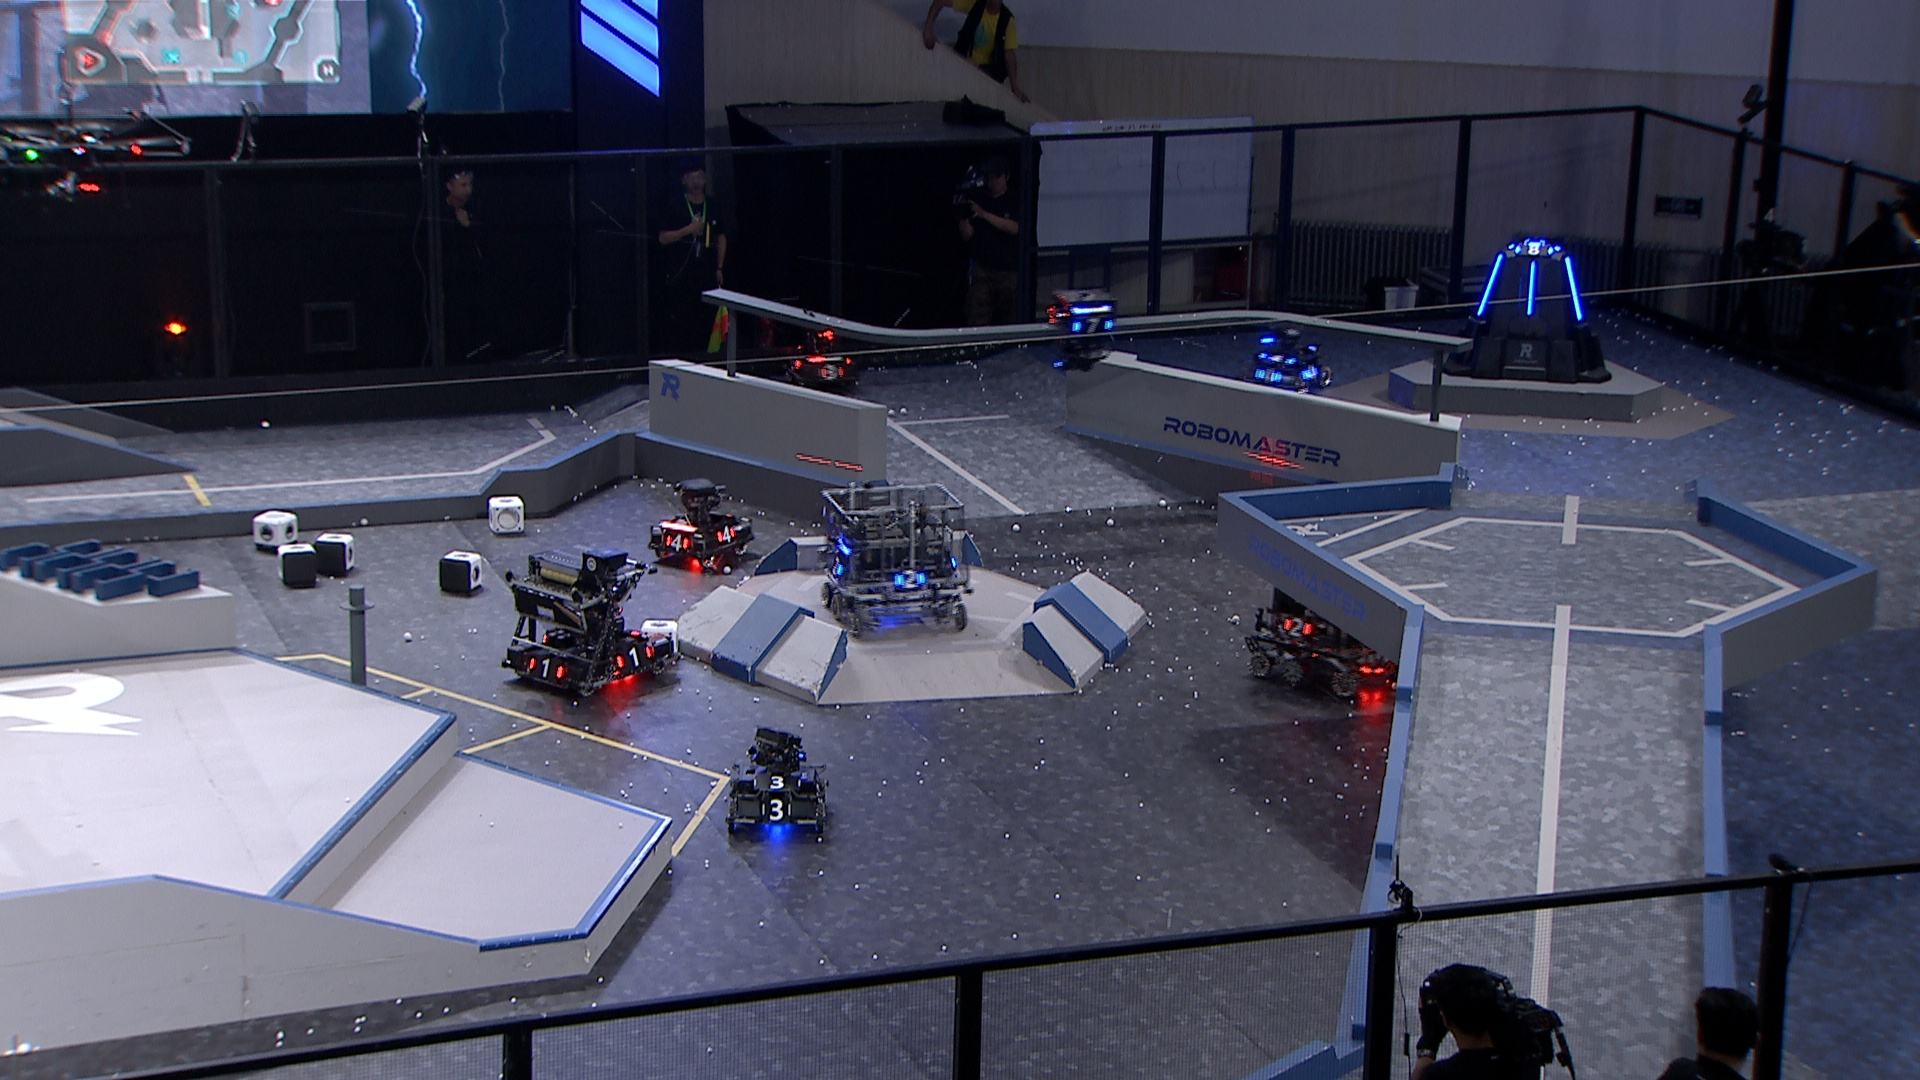armor: (1472, 249, 1506, 320), (1563, 255, 1585, 323), (524, 654, 568, 683), (615, 642, 655, 671), (750, 774, 804, 793), (1069, 316, 1116, 338), (1509, 239, 1557, 258), (1523, 258, 1539, 318), (891, 567, 924, 593), (760, 798, 793, 822), (1282, 617, 1315, 640), (661, 533, 692, 555), (1257, 349, 1296, 367), (1254, 367, 1287, 386), (816, 361, 847, 381), (827, 553, 845, 578), (717, 524, 738, 543), (1300, 361, 1319, 381)
base: (1443, 233, 1617, 386)
car: (496, 538, 671, 707), (1244, 538, 1403, 700), (818, 476, 975, 636), (723, 723, 833, 837), (646, 473, 756, 572), (1244, 324, 1338, 398), (783, 327, 868, 401)
watcher: (1044, 284, 1122, 372)
